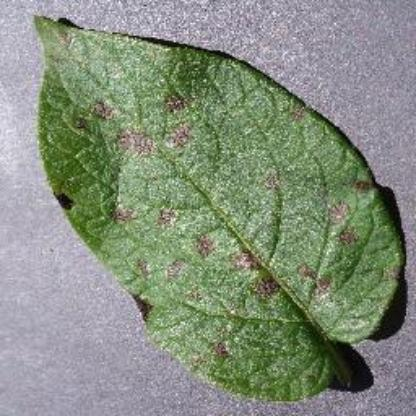Early-Blight: (28, 11, 406, 405)
